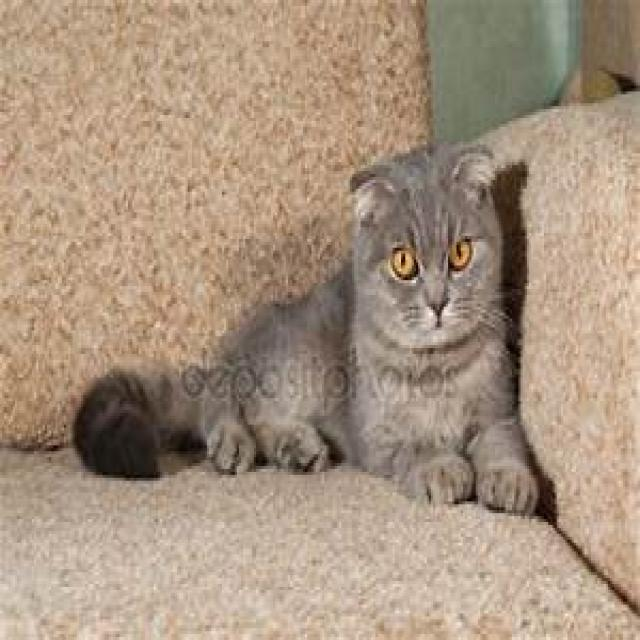animal: (70, 136, 540, 516)
